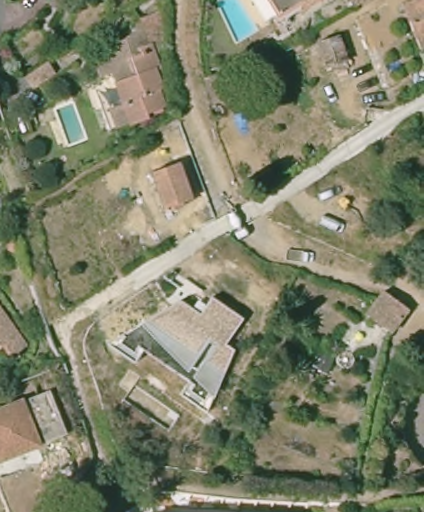pool: (217, 1, 260, 44), (51, 101, 92, 146)
